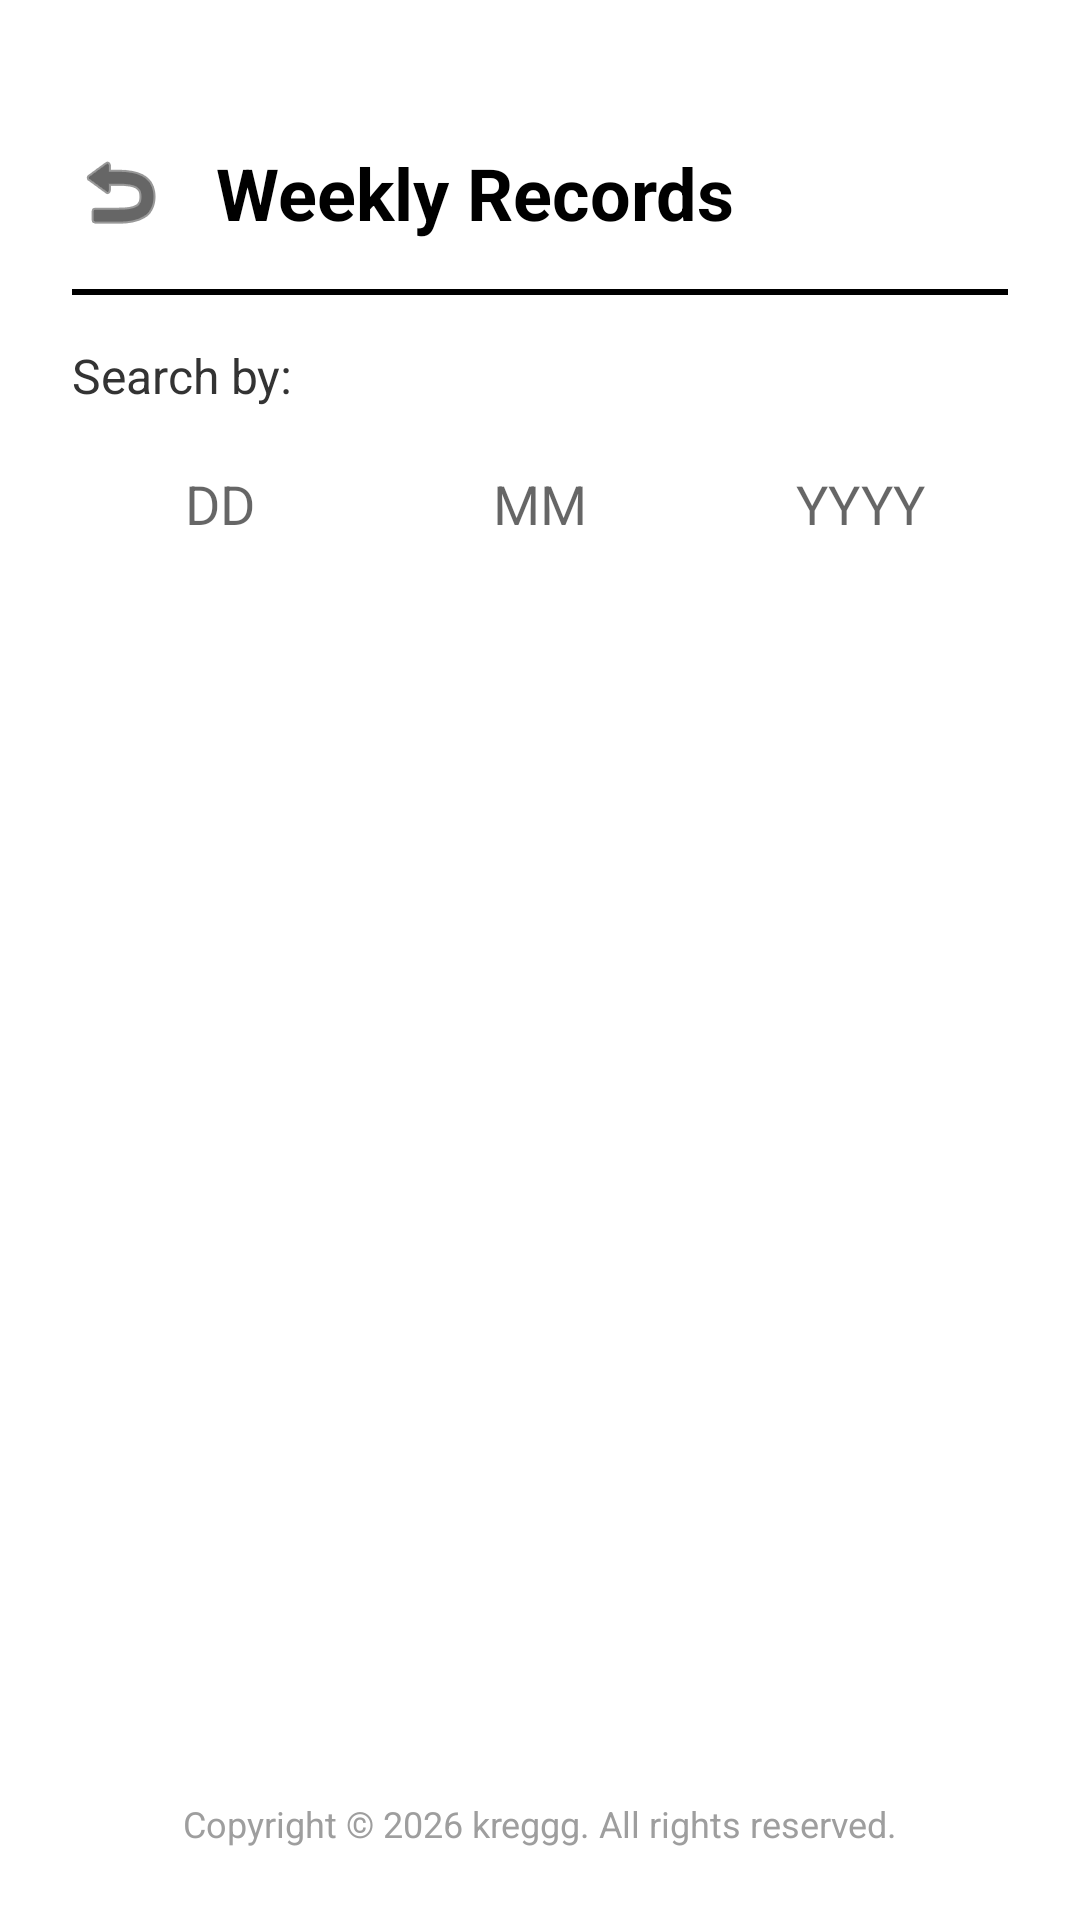

Icon click points for this 1080px×1920px phone screenshot, format [x,y]:
revert: [121,192]
